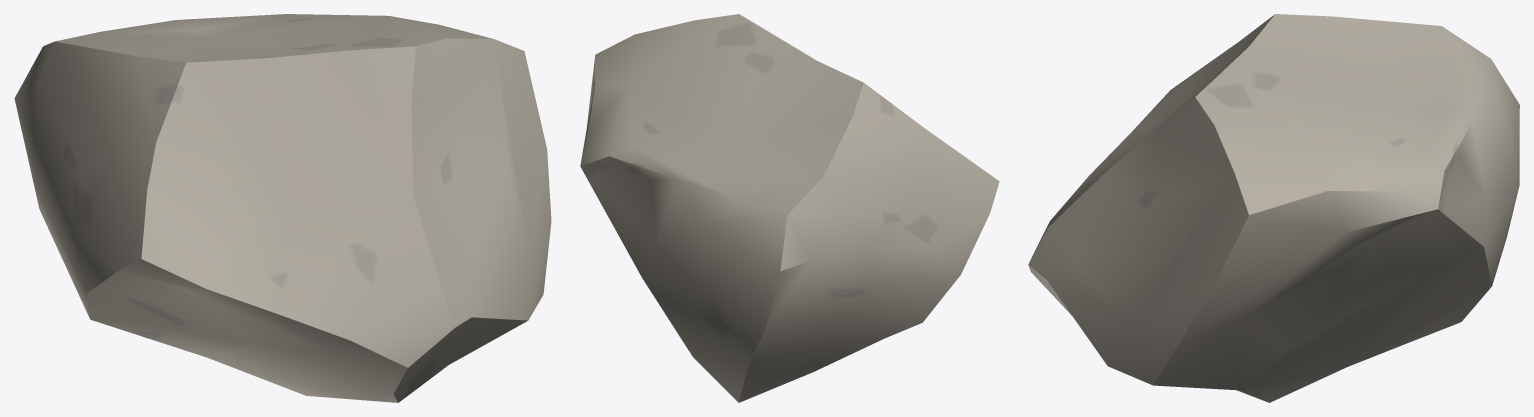
File: Rock 5.fbx
3 renders of one model, left to right at view 1: azimuth 30°, elevation 25°; view 2: azimuth 150°, elevation 25°; view 3: azimuth 270°, elevation 25°, orthographic. The views are drawn at different scales.
Visible parts, largest first — view 1: Rock 5; view 2: Rock 5; view 3: Rock 5.
Boxes of the visible parts, x1,y1,x2,y2 form: Rock 5: [14, 14, 551, 402]; Rock 5: [580, 14, 999, 402]; Rock 5: [1028, 14, 1519, 402].
Size of the model in its own units: 144 by 115 by 151.
